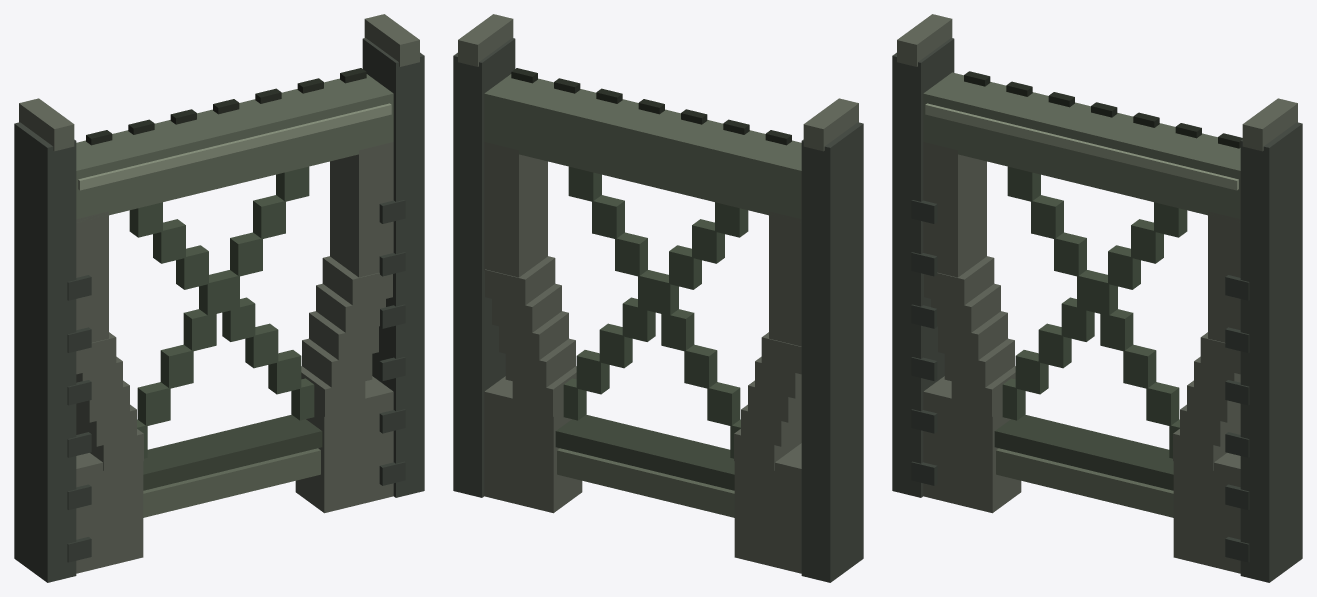
The model's file is CMU3DHybrisaElectricFence.glb.
3 renders of one model, left to right at view 1: azimuth 30°, elevation 25°; view 2: azimuth 150°, elevation 25°; view 3: azimuth 330°, elevation 25°, orthographic.
Parts seen in each view (by area): view 1: outer post (×2), top frame beam, stepped frame shoulder (×10), broad lower post (×2), broad upper post (×2), lower frame inset, lower frame beam, top frame highlight, upper post cap (×2), post recessed slot (×6), cross brace 1:2, cross brace 1:1 (+13 smaller); view 2: outer post (×2), top frame beam, stepped frame shoulder (×10), broad lower post (×2), broad upper post (×2), lower frame inset, lower frame beam, upper post cap (×2), cross brace 1:2, cross brace 1:1, cross brace 1:5, cross brace 1:6 (+11 smaller); view 3: outer post (×2), top frame beam, stepped frame shoulder (×10), broad lower post (×2), broad upper post (×2), lower frame inset, lower frame beam, top frame highlight, upper post cap (×2), post recessed slot (×6), cross brace -1:2, cross brace -1:1 (+13 smaller).
Boxes of the visible parts, x1,y1,x2,y2 form: outer post (×2): [14, 38, 424, 582]; top frame beam: [76, 74, 393, 222]; stepped frame shoulder (×10): [76, 256, 392, 470]; broad lower post (×2): [76, 376, 393, 573]; broad upper post (×2): [76, 142, 393, 342]; lower frame inset: [143, 414, 322, 490]; lower frame beam: [143, 448, 320, 517]; top frame highlight: [78, 103, 391, 190]; upper post cap (×2): [19, 14, 419, 151]; post recessed slot (×6): [379, 200, 405, 485]; cross brace 1:2: [160, 344, 193, 388]; cross brace 1:1: [137, 382, 170, 426]; outer post (×2): [453, 38, 863, 582]; top frame beam: [484, 74, 801, 222]; stepped frame shoulder (×10): [485, 256, 801, 470]; broad lower post (×2): [484, 376, 801, 573]; broad upper post (×2): [484, 142, 801, 346]; lower frame inset: [555, 414, 734, 490]; lower frame beam: [557, 448, 734, 517]; upper post cap (×2): [458, 14, 858, 151]; cross brace 1:2: [684, 344, 717, 388]; cross brace 1:1: [707, 382, 740, 426]; cross brace 1:5: [615, 232, 647, 276]; cross brace 1:6: [592, 195, 624, 239]; outer post (×2): [892, 38, 1302, 582]; top frame beam: [923, 72, 1240, 222]; stepped frame shoulder (×10): [924, 256, 1240, 470]; broad lower post (×2): [923, 376, 1240, 573]; broad upper post (×2): [923, 142, 1240, 342]; lower frame inset: [994, 414, 1173, 490]; lower frame beam: [996, 448, 1173, 517]; top frame highlight: [925, 103, 1238, 190]; upper post cap (×2): [897, 14, 1297, 151]; post recessed slot (×6): [911, 200, 937, 485]; cross brace -1:2: [1123, 344, 1156, 388]; cross brace -1:1: [1146, 382, 1179, 426].
Size of the model in its own units: 0.98 by 1.12 by 0.16.
